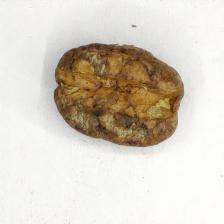NG: (57, 46, 168, 142)
